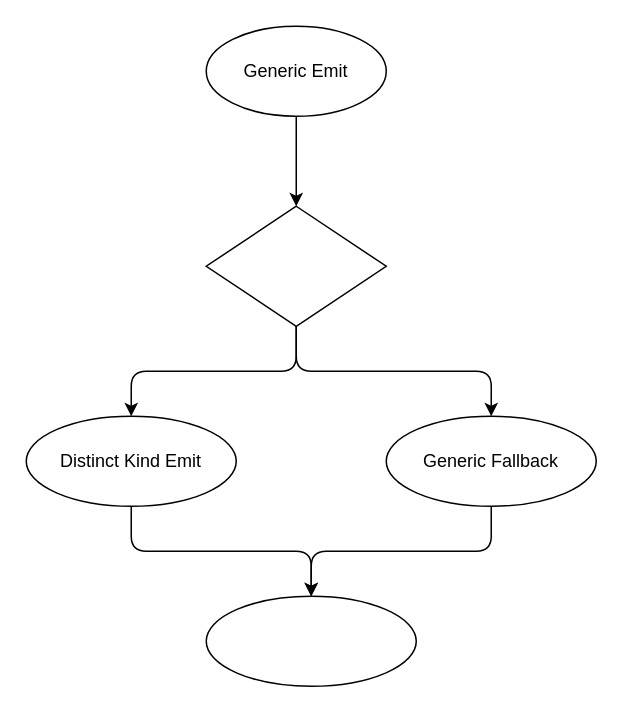
Some shapes in this 623 by 713 pixel diagram are drawn without their labels. The centre of each missing label's shape, as x and y in pixels:
"Graph Node Stored" goes at point 310,640.
"Parser Analysis" goes at point 295,265.
